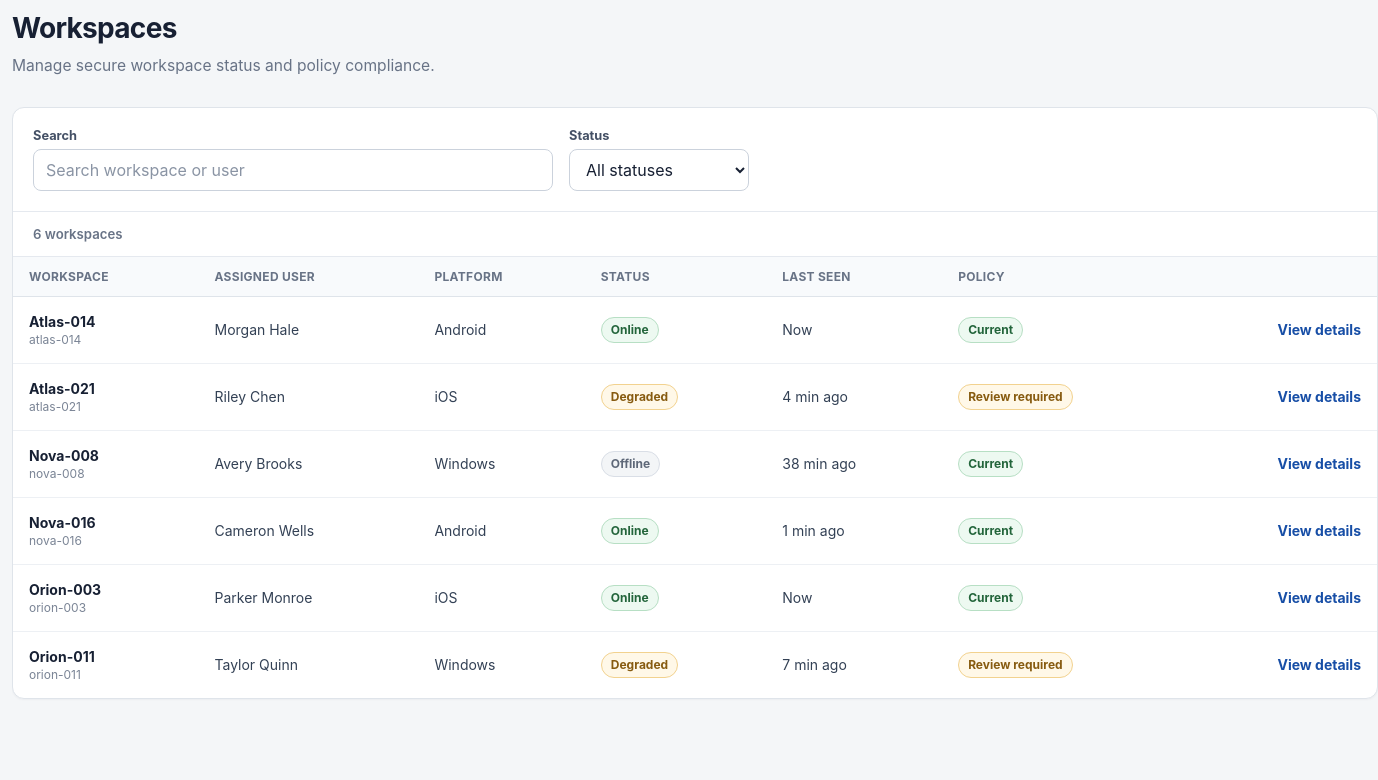
WorkspacesPage › filters workspaces by user search
Expected: the text "Atlas-014" is shown, [29, 312, 96, 330]
In the search field labelled "Search": (293, 170) [33, 148, 553, 190], type "Riley"
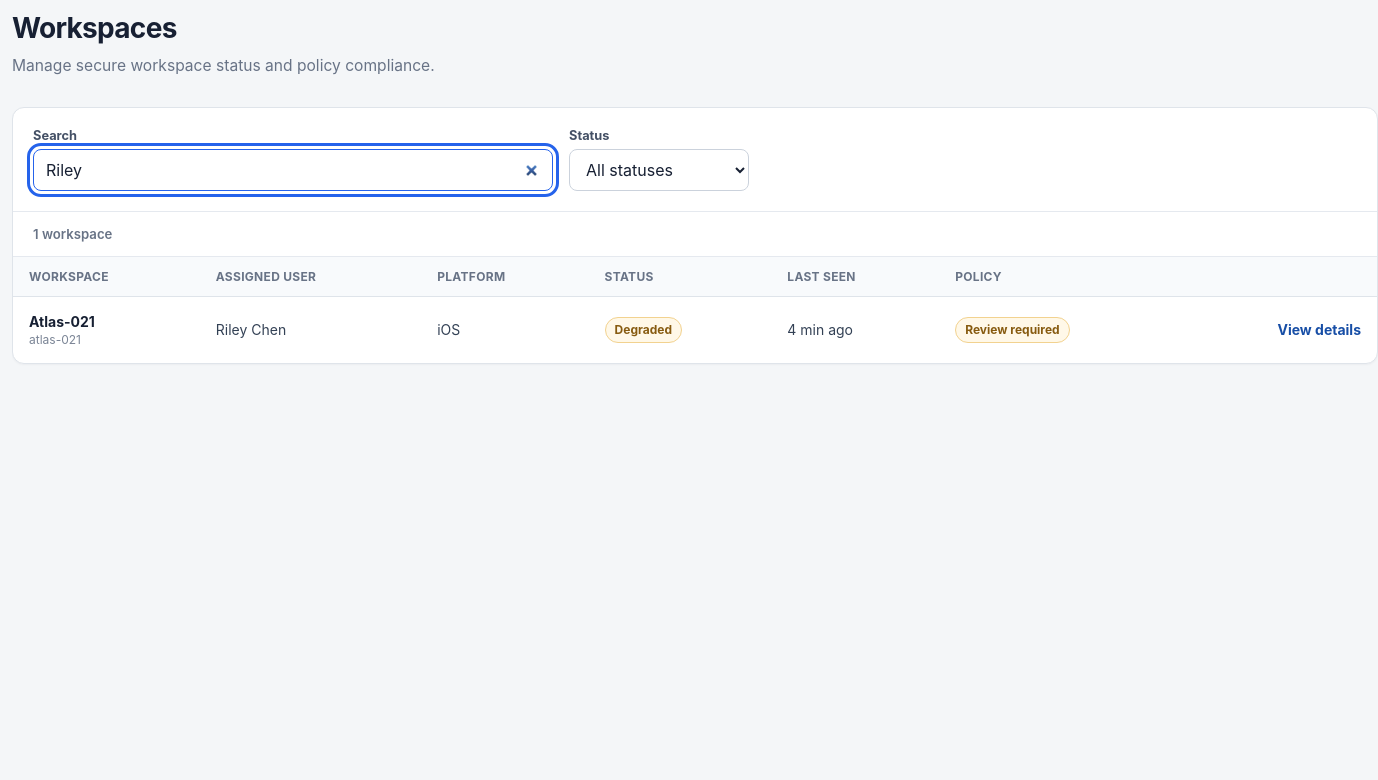
Expected: the text "Atlas-021" is shown, [29, 312, 95, 330]
Expected: the text "Atlas-014" is gone
